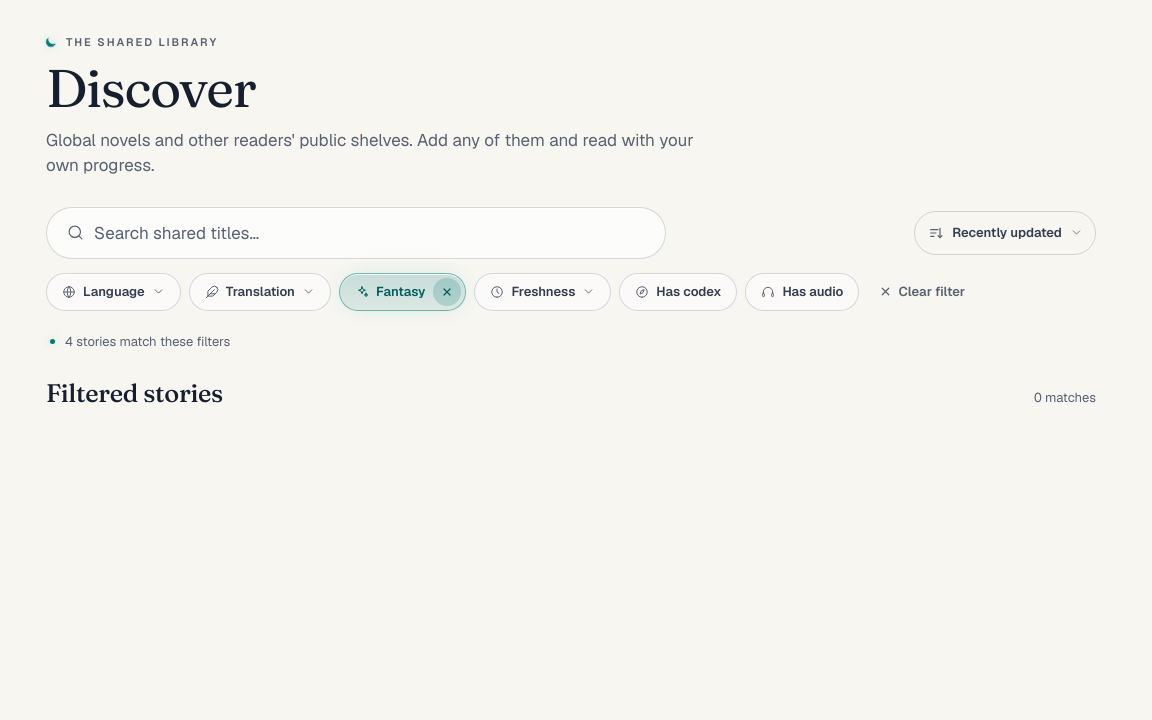
Test case: Discover › offers filters as real menus: grouped choices, the current one checked
Click the button "Language" at [113, 292], box [46, 273, 181, 311]
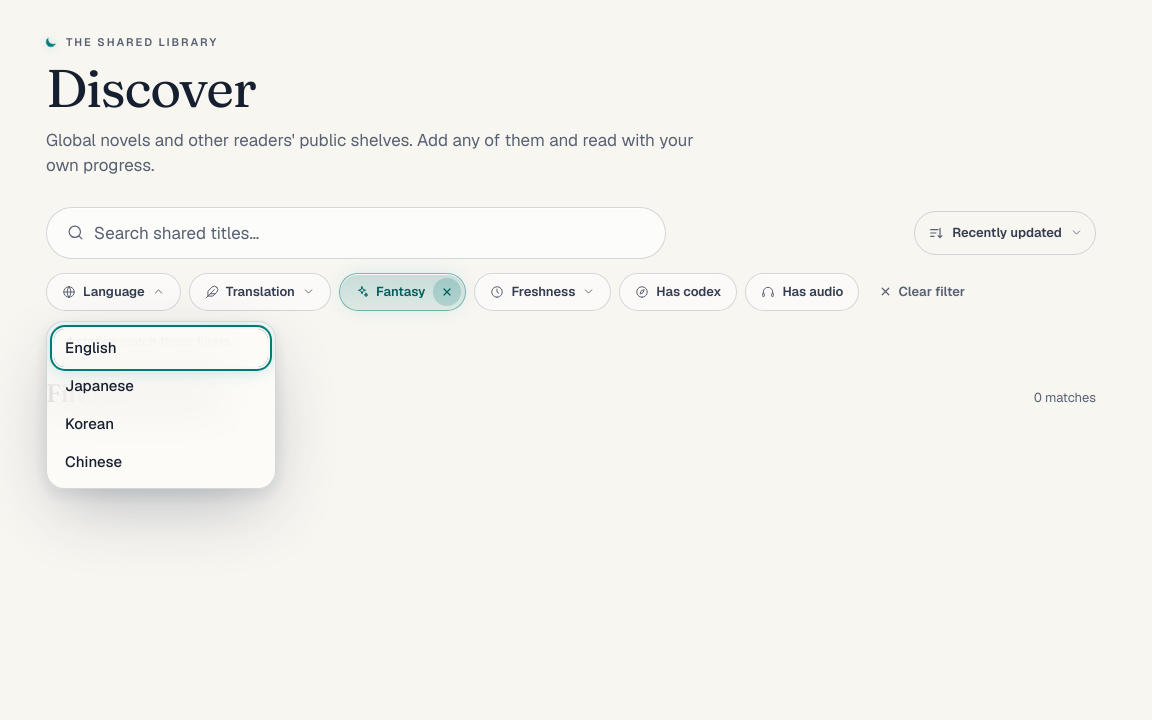
Click the menu item "Korean" at [161, 424], box [54, 405, 268, 443]
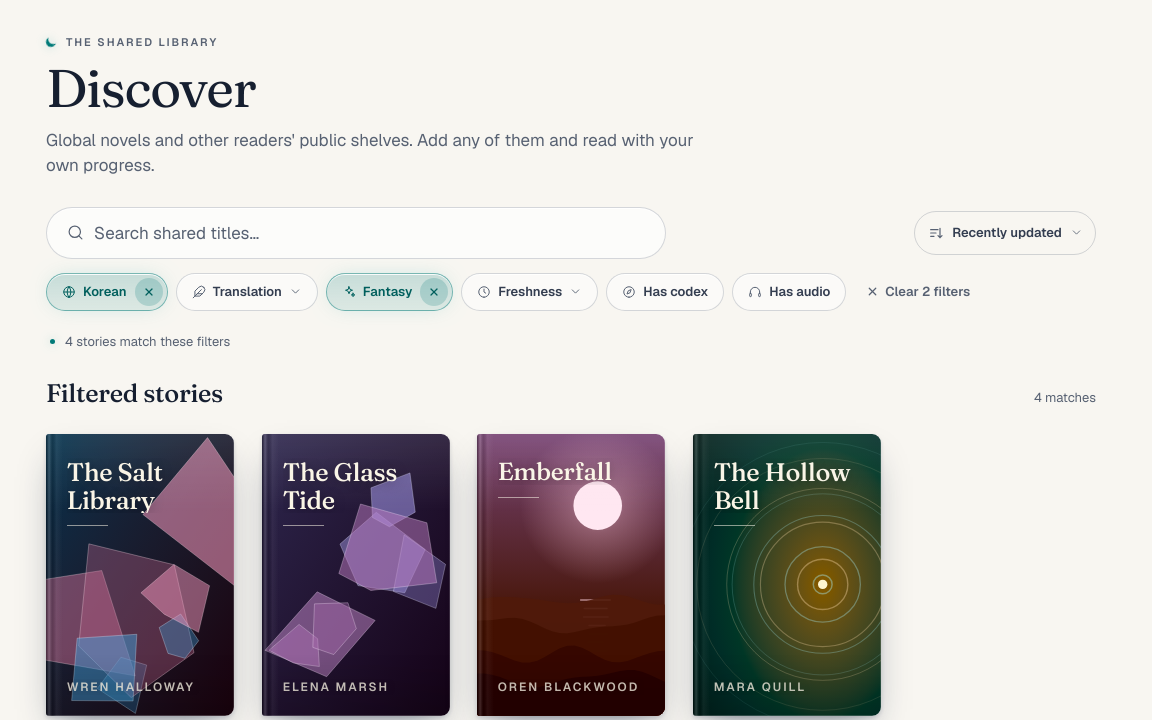
Expected: the menu is gone
Note: the grouped genre menu names its groups and checks the active tag
Click the button named "Genre:" at [390, 292], box [326, 273, 453, 311]
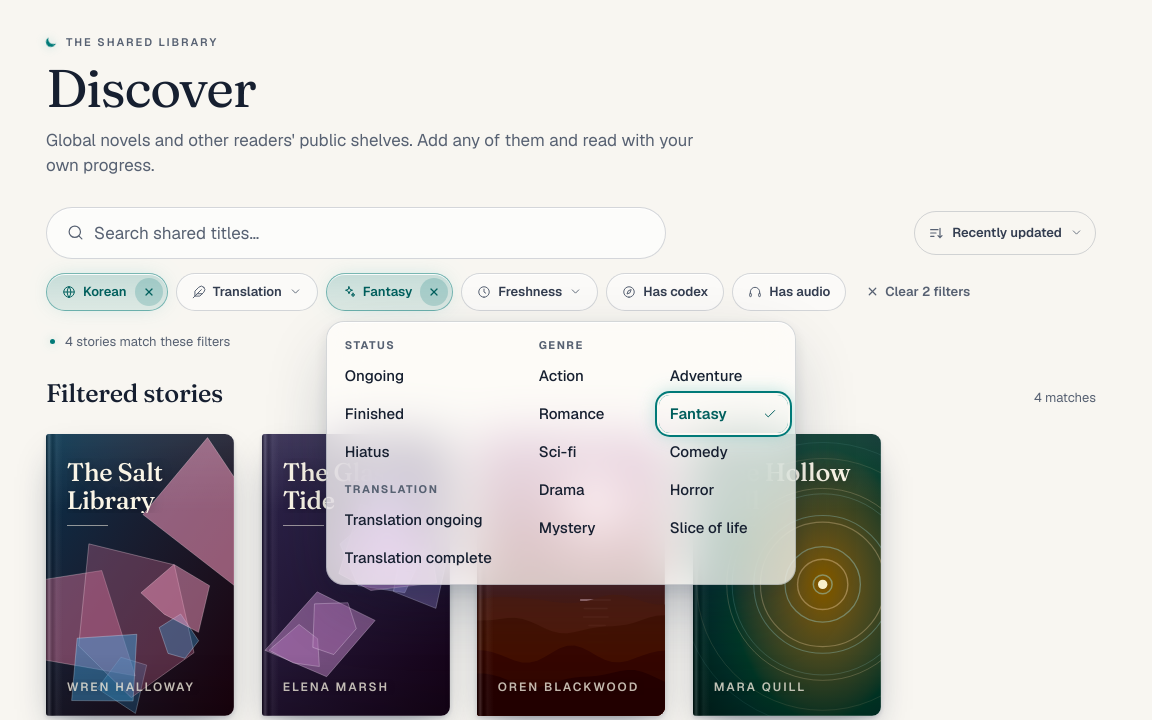
Expected: the element "Genre" is shown, [528, 329, 788, 577]
